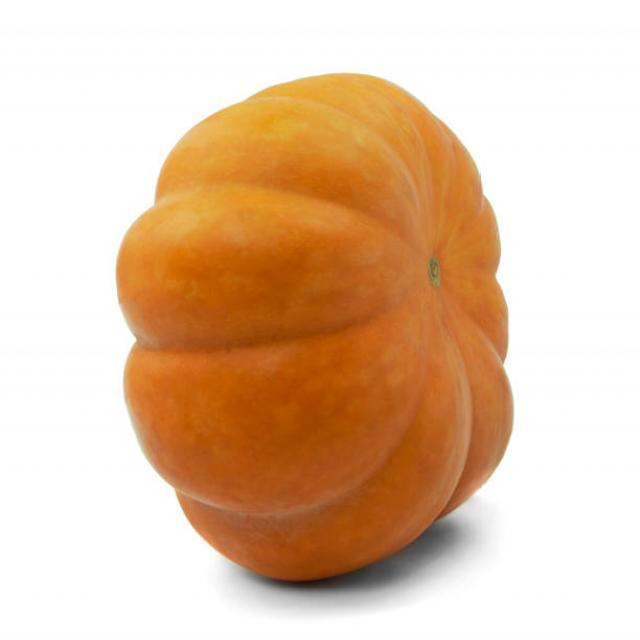pumpkin: (110, 62, 520, 581)
